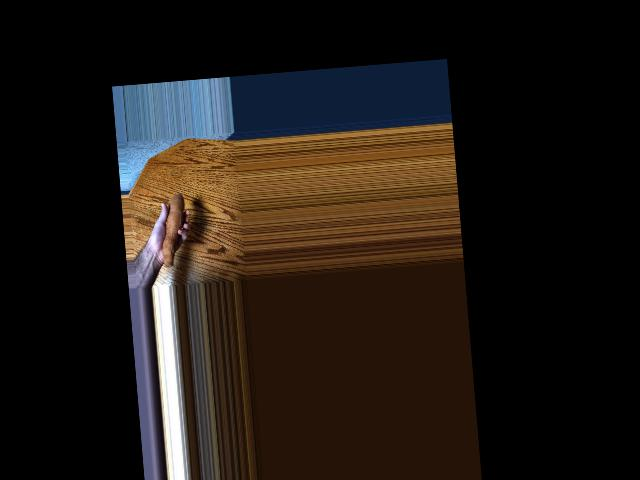sweet_potato: (156, 191, 189, 266)
